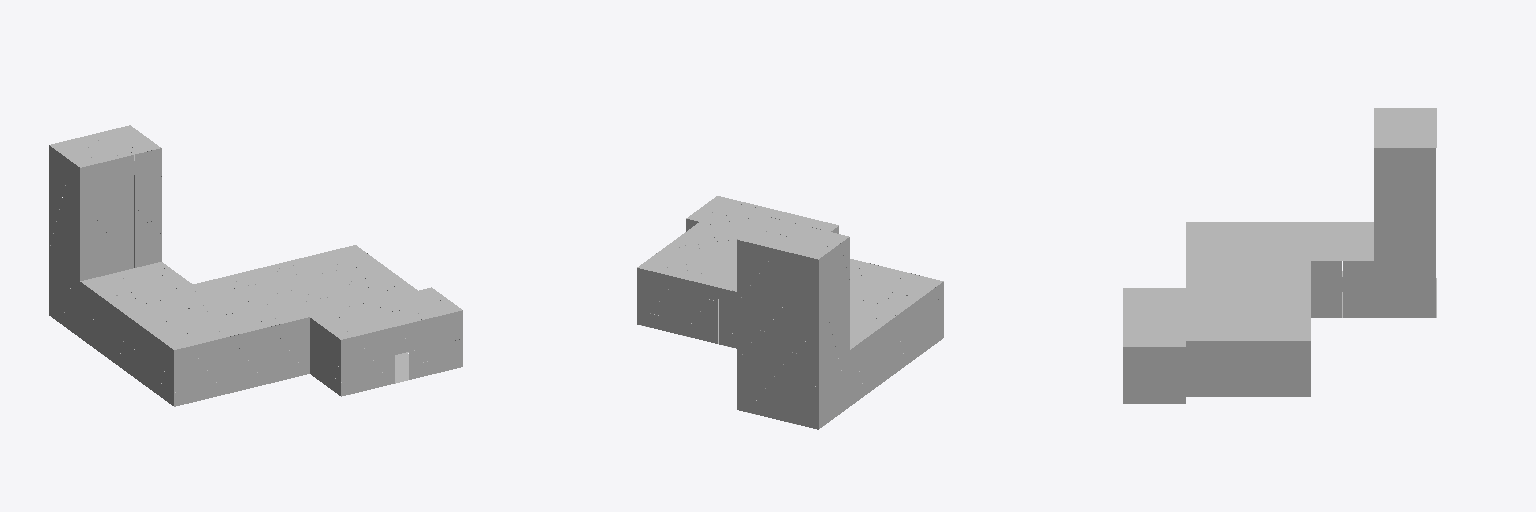
File: test_home_01.obj
3 renders of one model, left to right at view 1: azimuth 30°, elevation 25°; view 2: azimuth 150°, elevation 25°; view 3: azimuth 270°, elevation 25°, orthographic.
Parts seen in each view (by area): view 1: Plane.024; view 2: Plane.024; view 3: Plane.024.
Part boxes in pixels (x1,y1,x2,y2): Plane.024: (49,125,462,406); Plane.024: (637,196,943,429); Plane.024: (1123,108,1436,403).
Bounding box in the file's own units: 380 × 240 × 400.